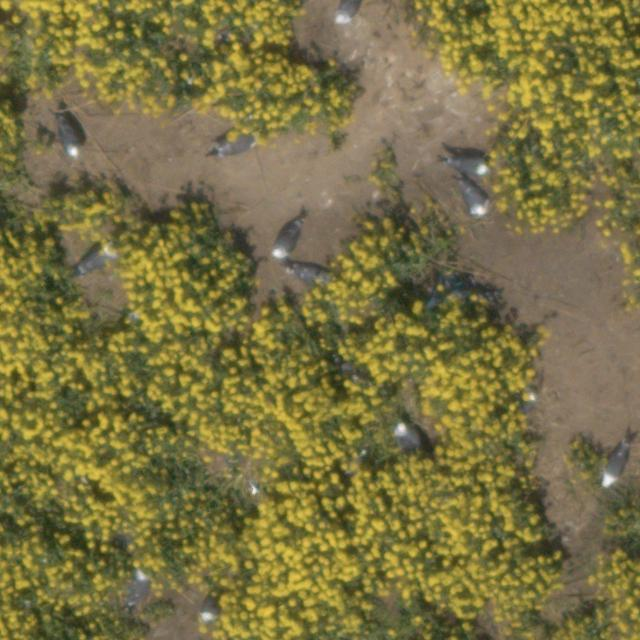umineko: (214, 127, 265, 156), (604, 446, 628, 484), (272, 223, 298, 258), (284, 264, 327, 284), (463, 185, 487, 216), (451, 157, 489, 176), (78, 250, 108, 274), (128, 570, 148, 604), (59, 123, 79, 155), (396, 424, 420, 450), (336, 1, 359, 24), (200, 598, 218, 623)
